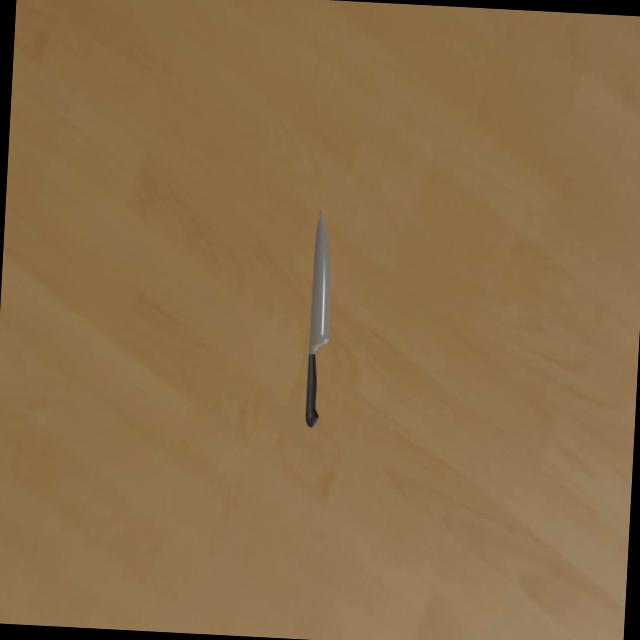knife: (306, 352, 322, 428)
